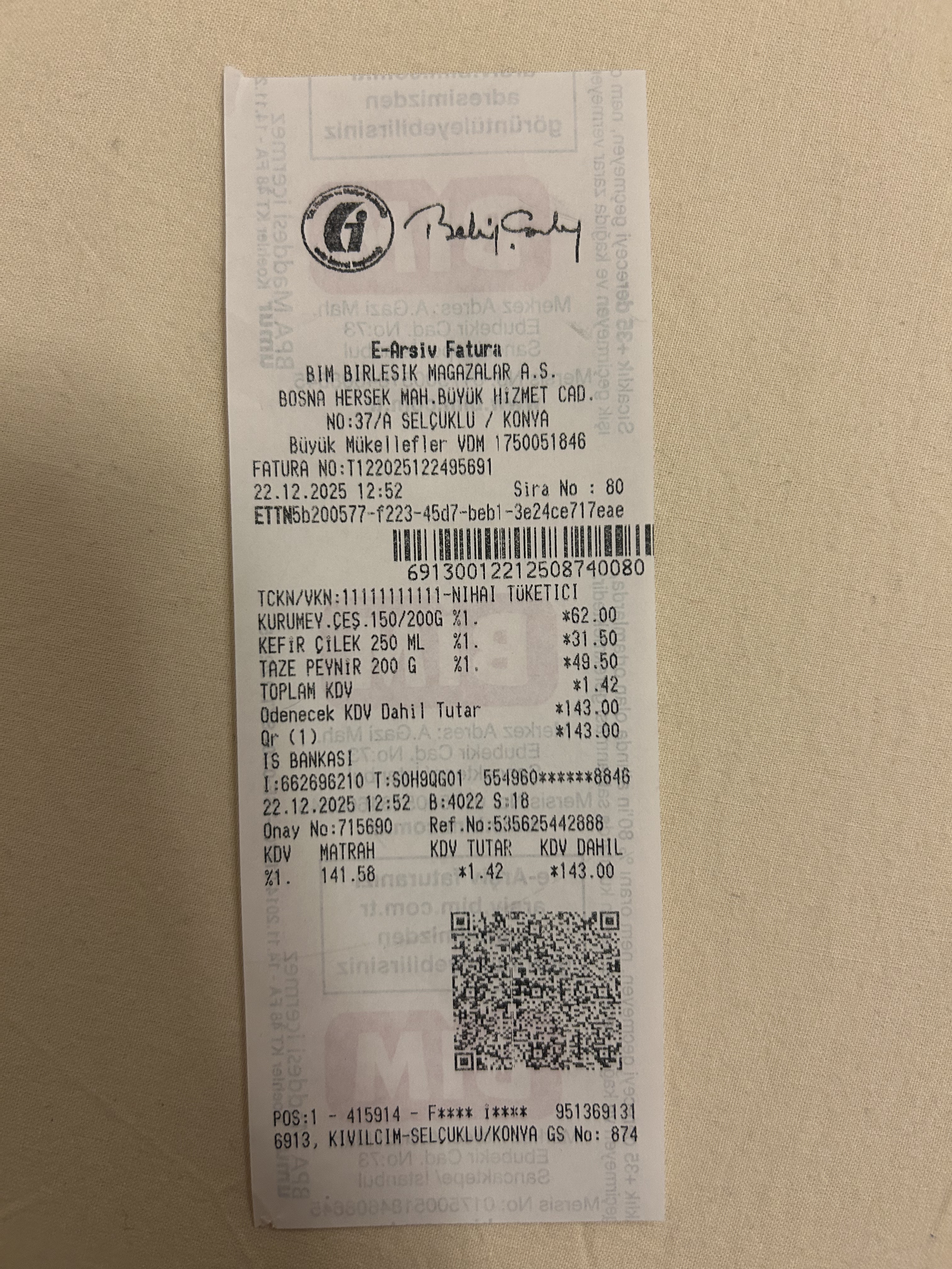date: (244, 478, 352, 504)
price: (560, 694, 626, 720)
workplace: (269, 331, 607, 433)
